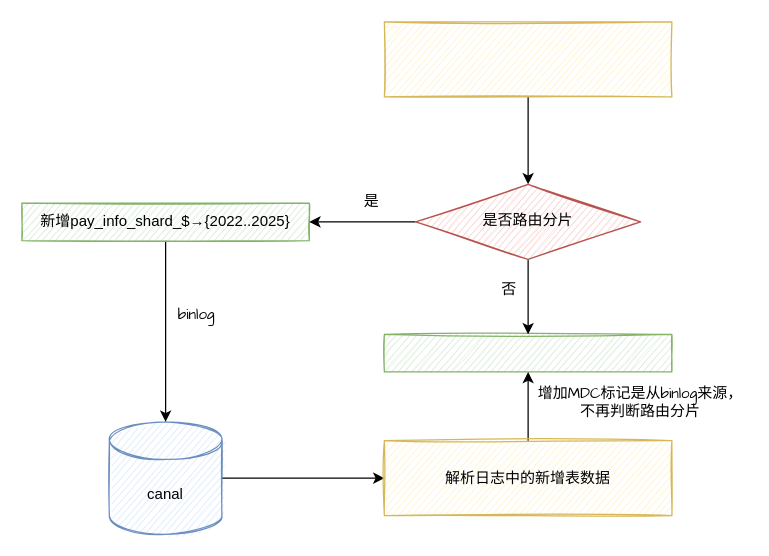
The diagram is 769 pixels wide and 556 high, and some of its shapes have lost their labels. The shapes that lost their labels are listed below. From the top down, each one's centre as x and y in pixels, then its label:
[527,59]: 新增支付订单数据
[527,352]: 新增pay_info
